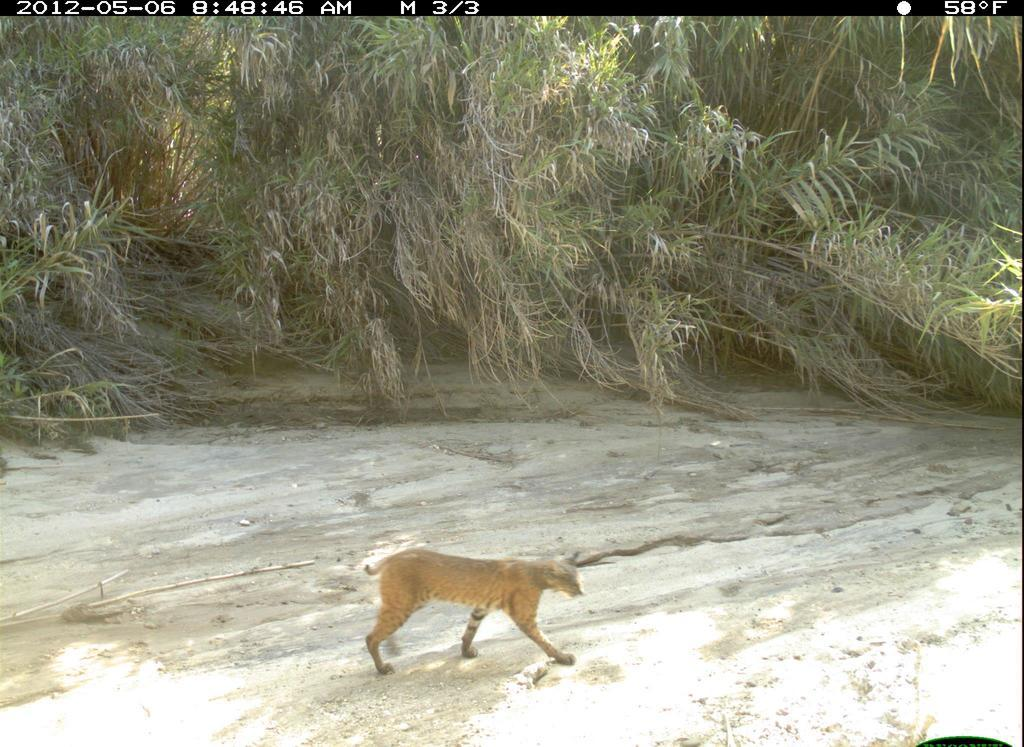bobcat: (341, 534, 611, 684)
